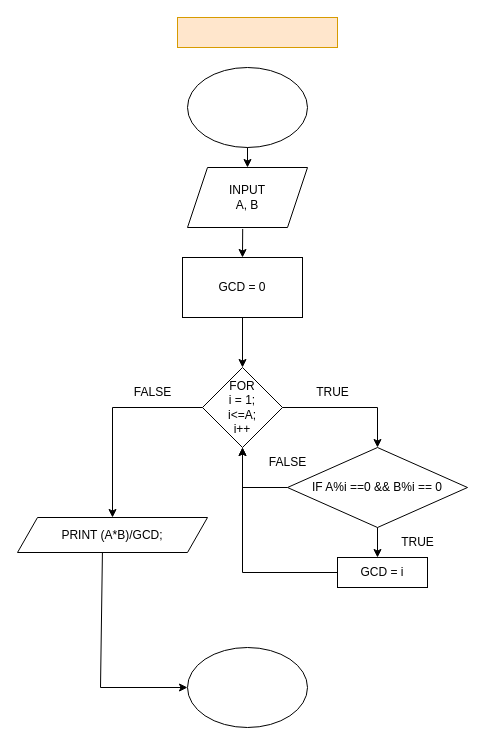
This 485x745 diagram has some shape labels left out. The shapes that lost their labels are listed below. From the top down, each one's centre as x and y in pixels, then its label:
the point at 257,32: LCM Number PROGRAM
the point at 247,107: START
the point at 247,687: STOP
